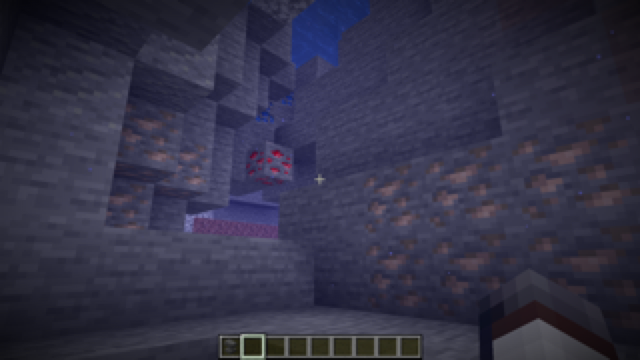iron: (360, 118, 637, 334), (106, 94, 213, 229)
redstone: (242, 142, 294, 185)
